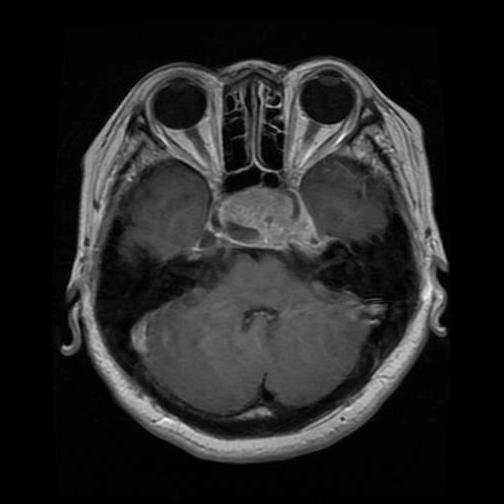Tumour-Pituitary: (191, 185, 331, 262)
